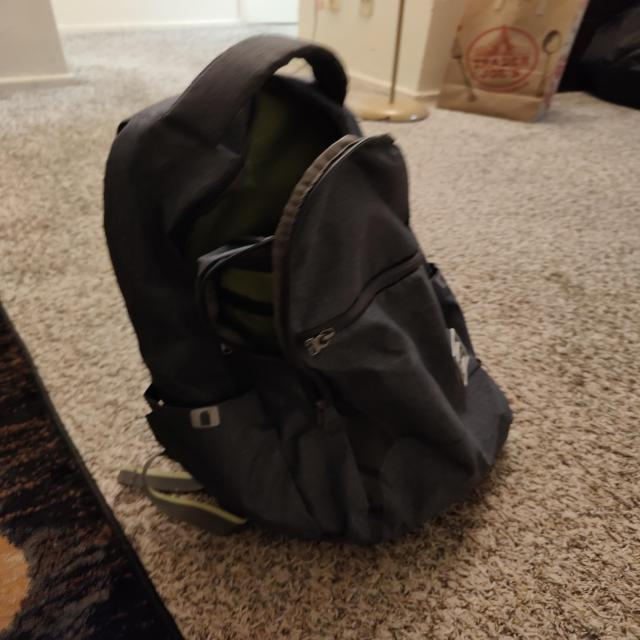bag: (109, 55, 511, 516)
